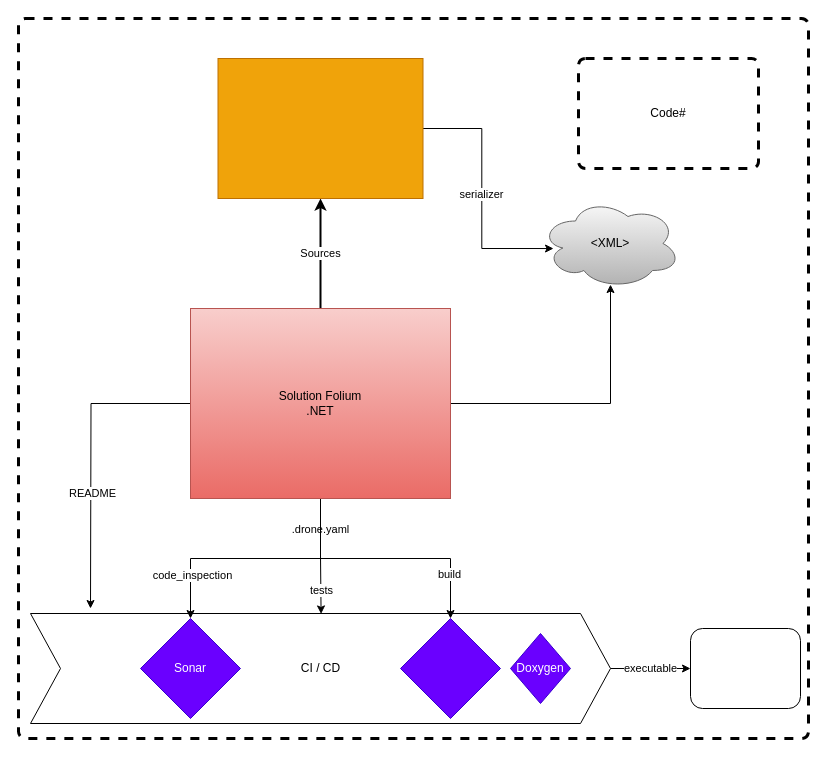
Some shapes in this 827 by 757 pixel diagram are drawn without their labels. The shapes that lost their labels are listed below. From the top down, each one's centre as x and y in pixels, then its label:
At [320,128]: "Packages Vues Modèles ...".
At [450,668]: "Drone".
At [745,668]: "Windows app".
